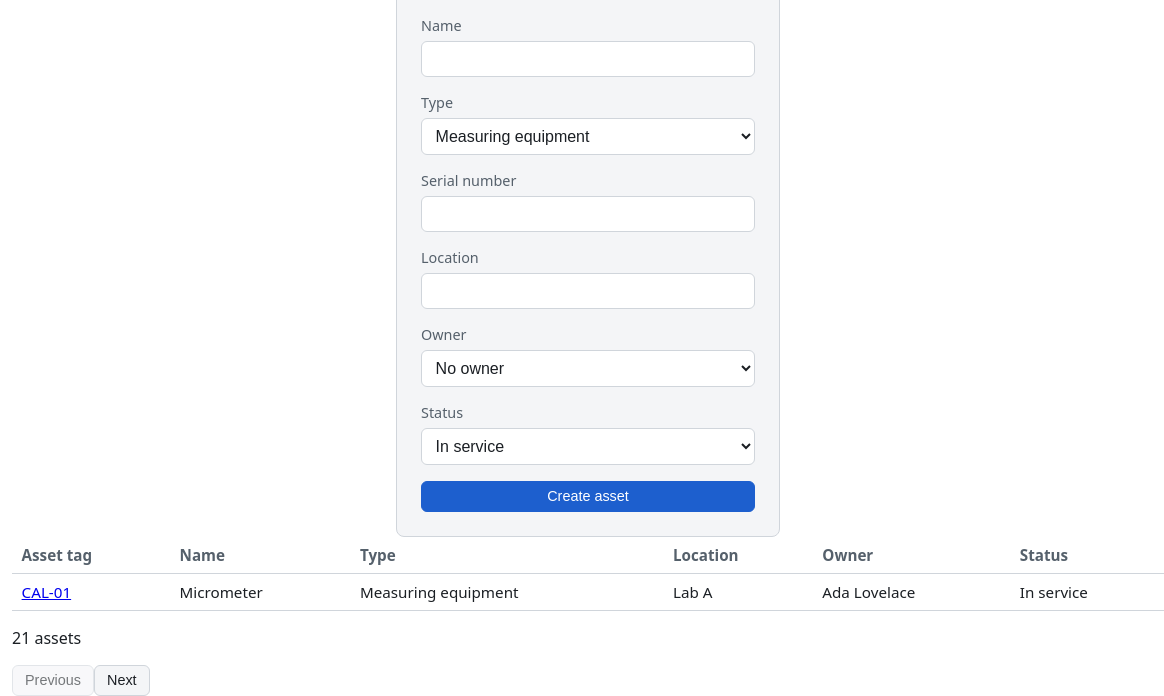
it: AssetsPage › paginates beyond the first 20 assets
(page scrolled)
expect the text "Micrometer" is shown: met, box [170,573,350,610]
Click the button "Next" at (122, 680), box [94,665,150,695]
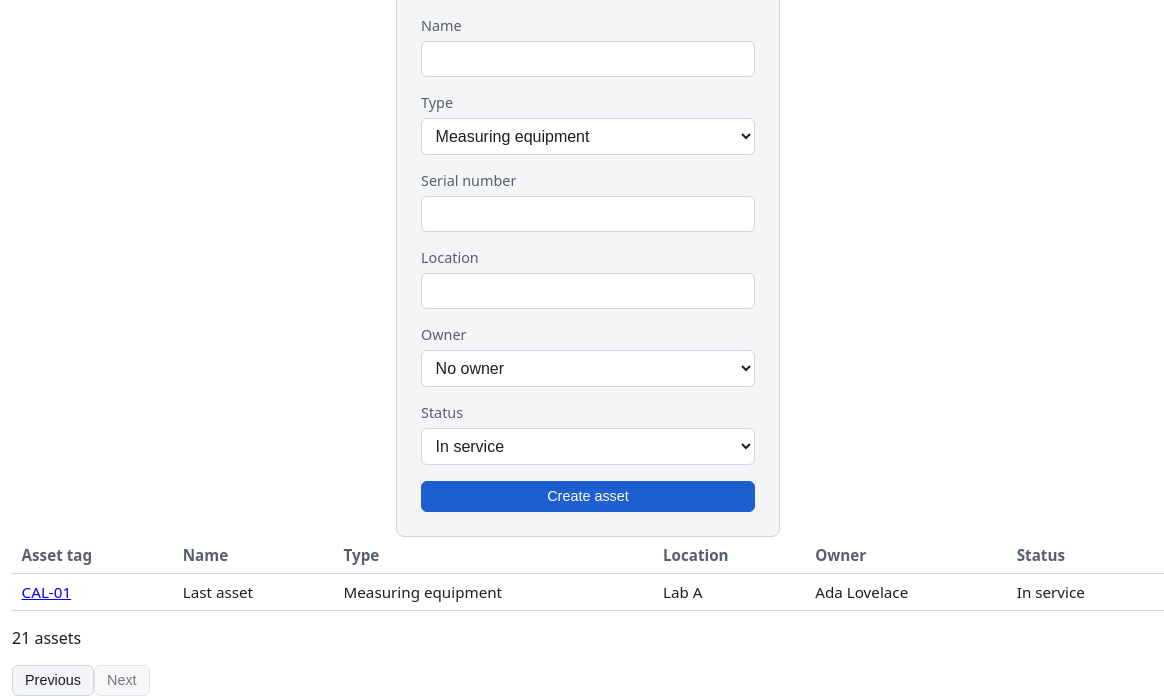
expect the text "Last asset" is shown: met, box [173,573,334,610]
expect the button "Next" is disabled: met, box [94,665,150,695]
Click the button "Previous" at (53, 680), box [12,665,94,695]
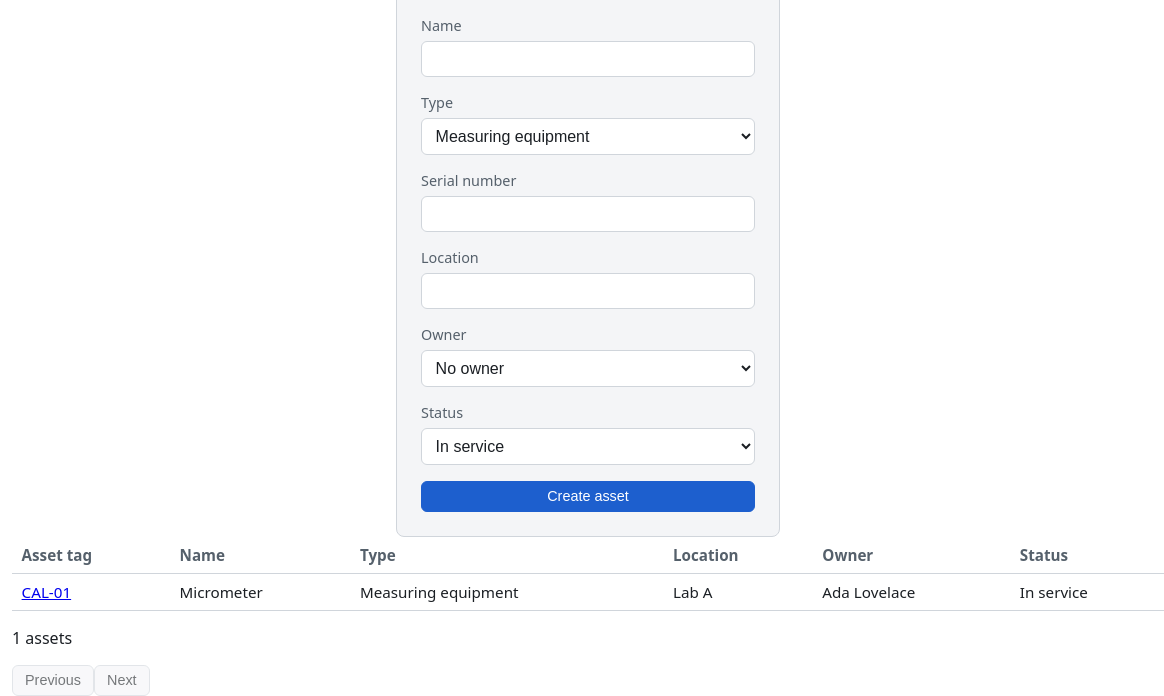
expect the text "Micrometer" is shown: met, box [170,573,350,610]
expect the button "Previous" is disabled: met, box [12,665,94,695]
